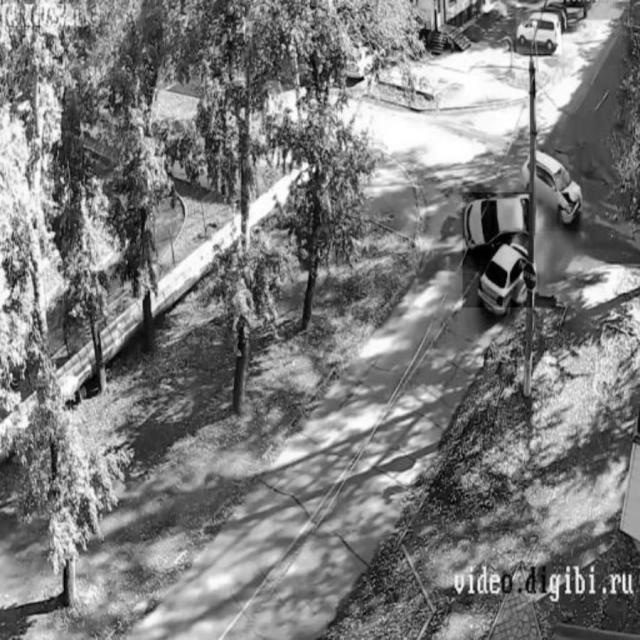accident: (463, 193, 533, 307)
vehicle: (527, 149, 582, 231), (517, 13, 562, 54)
